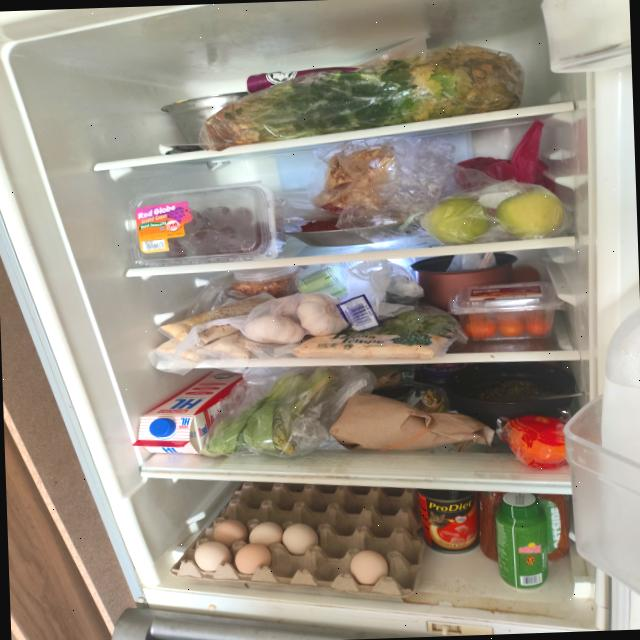apple: (422, 197, 492, 246), (495, 189, 563, 238)
egg: (165, 473, 428, 605)
garlic: (243, 291, 350, 346)
grape: (126, 178, 287, 266)
leafy_greens: (200, 42, 526, 148)
orange: (508, 414, 566, 468)
pakchoy: (201, 367, 341, 458)
tempeh: (153, 292, 278, 364), (291, 330, 449, 364)
